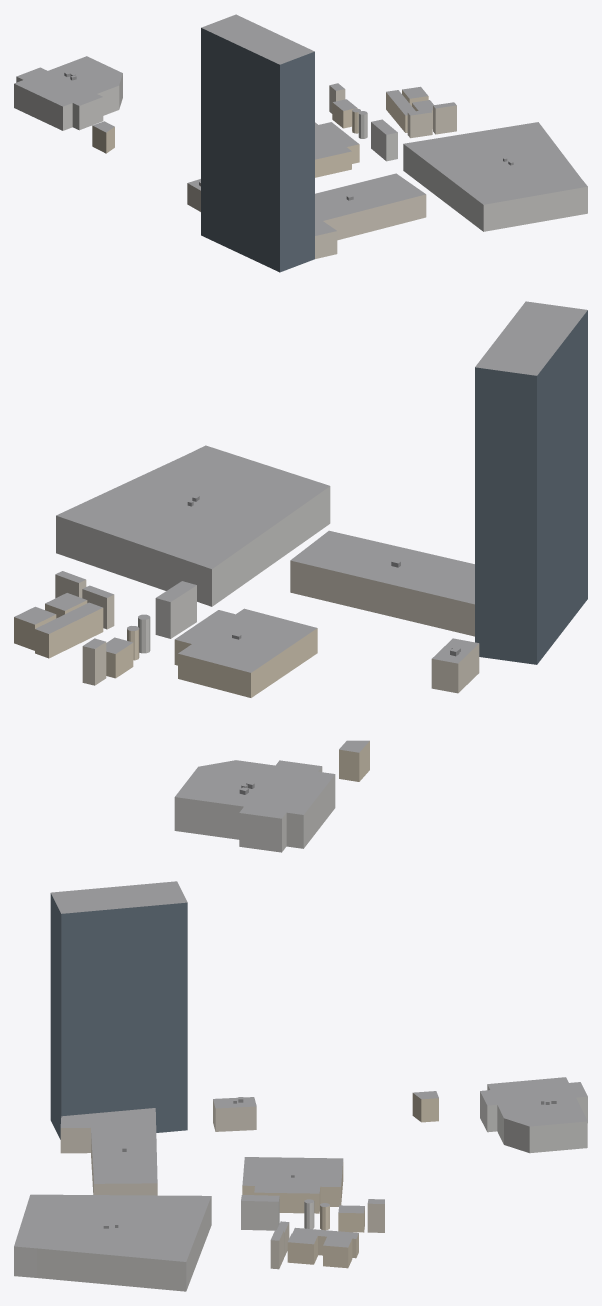
The model's file is building_-4_4.glb.
3 renders of one model, top to bottom at view 1: azimuth 30°, elevation 25°; view 2: azimuth 150°, elevation 25°; view 3: azimuth 270°, elevation 25°, orthographic. The views are drawn at different scales.
Parts seen in each view (by area): view 1: glass_dark, roof, concrete_light, concrete_warm, sandstone; view 2: roof, glass_dark, concrete_light, concrete_warm, sandstone; view 3: glass_dark, roof, concrete_light, sandstone, concrete_warm.
Boxes of the visible parts, x1=… form: glass_dark: x1=201, y1=28, x2=314, y2=272; roof: x1=14, y1=14, x2=587, y2=235; concrete_light: x1=14, y1=74, x2=587, y2=231; concrete_warm: x1=187, y1=85, x2=456, y2=258; sandstone: x1=92, y1=90, x2=432, y2=177; roof: x1=14, y1=301, x2=587, y2=818; glass_dark: x1=475, y1=310, x2=587, y2=664; concrete_light: x1=56, y1=486, x2=335, y2=852; concrete_warm: x1=55, y1=560, x2=479, y2=693; sandstone: x1=14, y1=600, x2=369, y2=781; glass_dark: x1=50, y1=893, x2=187, y2=1139; roof: x1=14, y1=881, x2=587, y2=1261; concrete_light: x1=14, y1=1084, x2=587, y2=1291; sandstone: x1=242, y1=1093, x2=438, y2=1268; concrete_warm: x1=60, y1=1100, x2=384, y2=1269.
Size of the model in its own units: 204 by 115 by 263.
